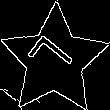L_SE: (26, 33, 82, 88)
